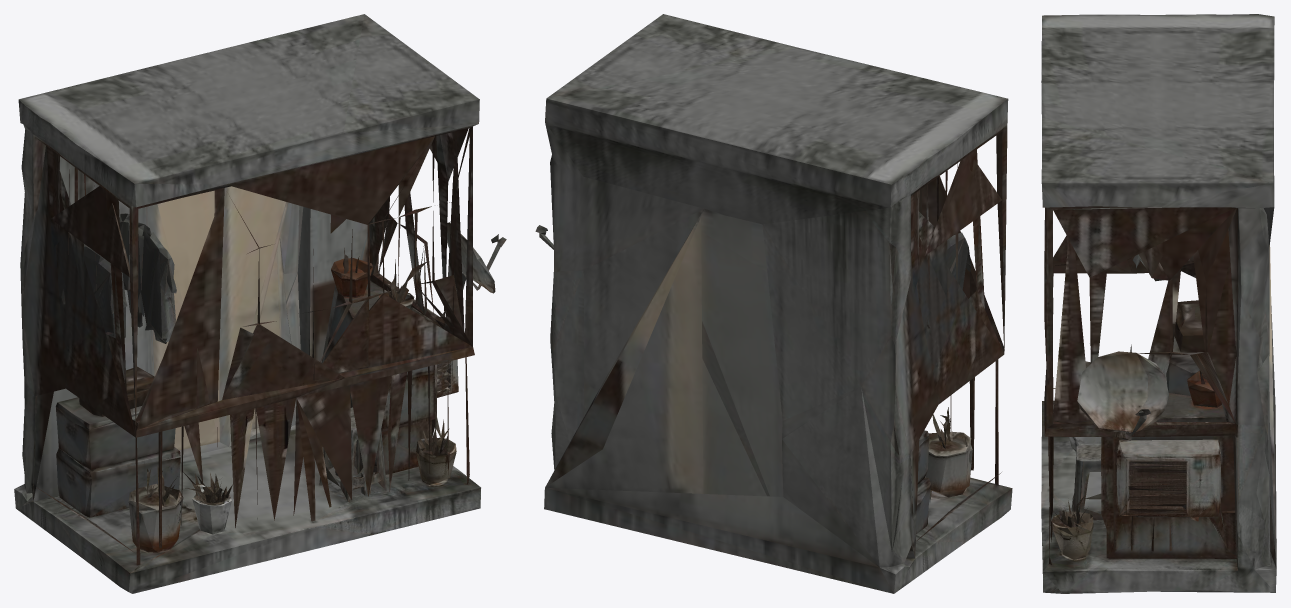
The model's file is ncz-balcony.glb.
3 renders of one model, left to right at view 1: azimuth 30°, elevation 25°; view 2: azimuth 150°, elevation 25°; view 3: azimuth 270°, elevation 25°, orthographic.
Parts seen in each view (by area): view 1: output_unwrapped; view 2: output_unwrapped; view 3: output_unwrapped.
Part boxes in pixels (left/top/right/bottom): output_unwrapped: left=14, top=14, right=506, bottom=593; output_unwrapped: left=535, top=14, right=1012, bottom=593; output_unwrapped: left=1041, top=14, right=1276, bottom=593.
Size of the model in its own units: 1.9 by 1.76 by 0.9118.
1 material, 1 textured.
